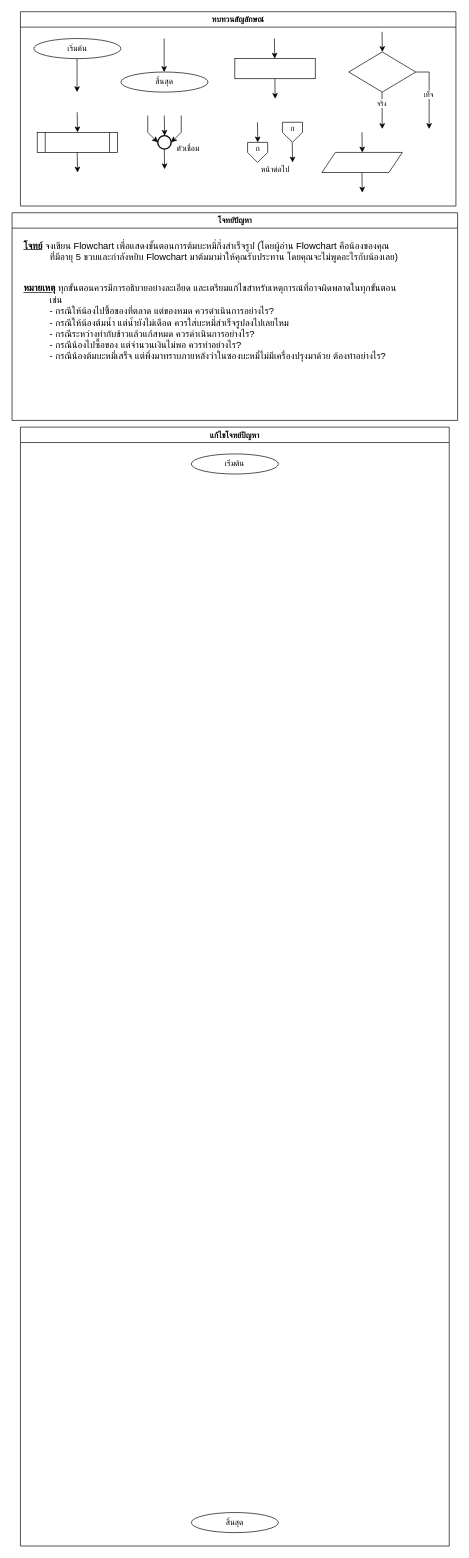
This 469x1558 diagram has some shape labels left out. Here are the shapes that lost their labels. From the top down, the box of each, then its label:
(234, 58, 315, 79): กระบวนการ
(348, 51, 416, 92): ประโยคเงื่อนไข
(37, 132, 118, 152): ฟังก์ชัน/โมดูล
(321, 152, 402, 173): แสดงผล/รับค่า
